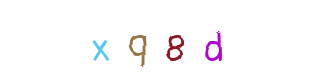8: (125, 0, 205, 80)
D: (174, 0, 254, 80)
Q: (118, 0, 198, 80)
X: (89, 0, 169, 80)
